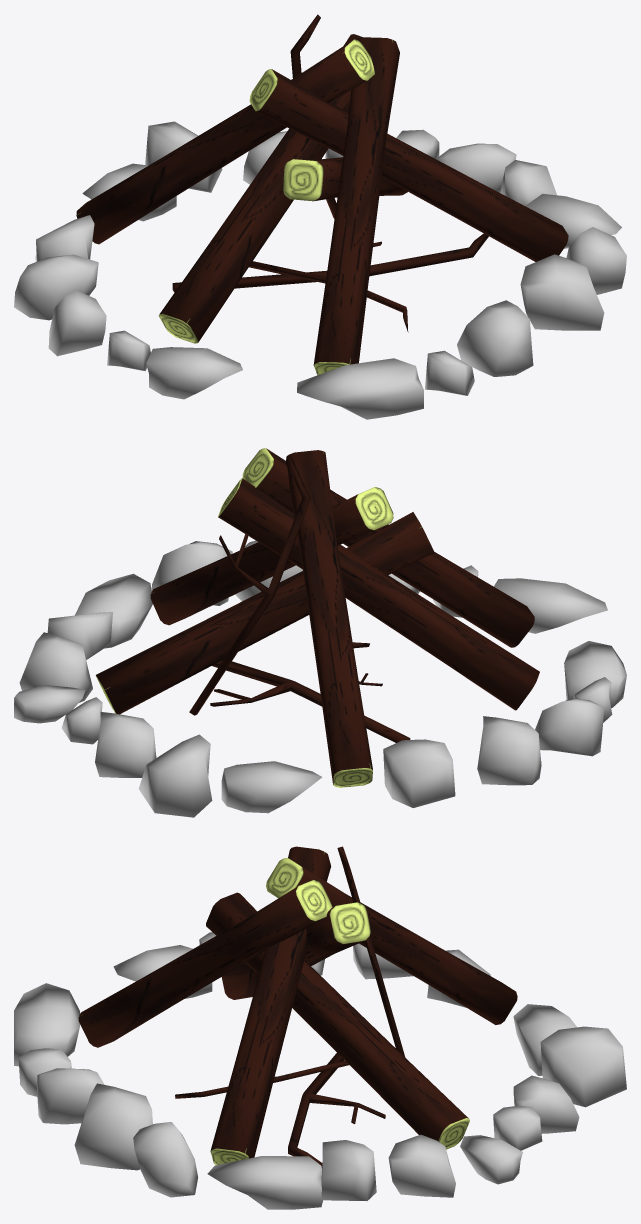
File: fire.obj
3 views of the same model, one above another, from view 1: azimuth 30°, elevation 25°; view 2: azimuth 150°, elevation 25°; view 3: azimuth 270°, elevation 25° (orthographic). The views are drawn at different scales.
Visible parts, largest first — view 1: fire_Cube.004; view 2: fire_Cube.004; view 3: fire_Cube.004.
Boxes of the visible parts, <box> form: fire_Cube.004: <box>14,14,626,419</box>; fire_Cube.004: <box>14,448,626,817</box>; fire_Cube.004: <box>14,846,626,1209</box>.
Size of the model in its own units: 5.18 by 2.42 by 5.29.
